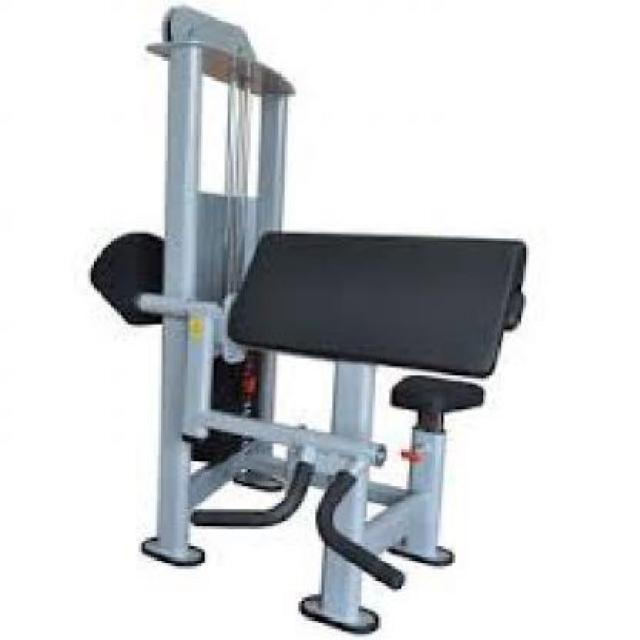arm curl machine: (89, 228, 529, 635)
